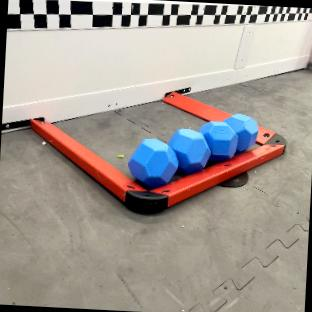Parking-R: (29, 117, 285, 212)
V5_BLUE: (128, 138, 176, 187), (170, 128, 209, 173), (199, 120, 237, 161), (224, 113, 257, 150)
